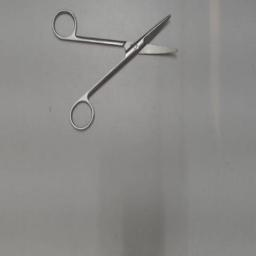Curved Mayo Scissors: (49, 6, 183, 136)
